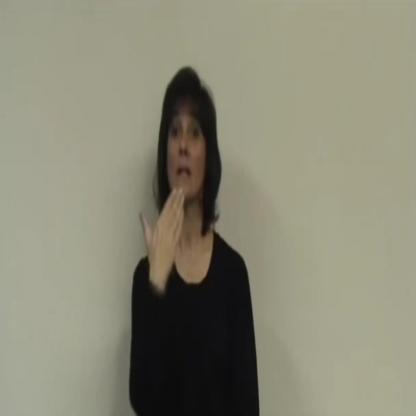ThankYou: (130, 57, 227, 303)
